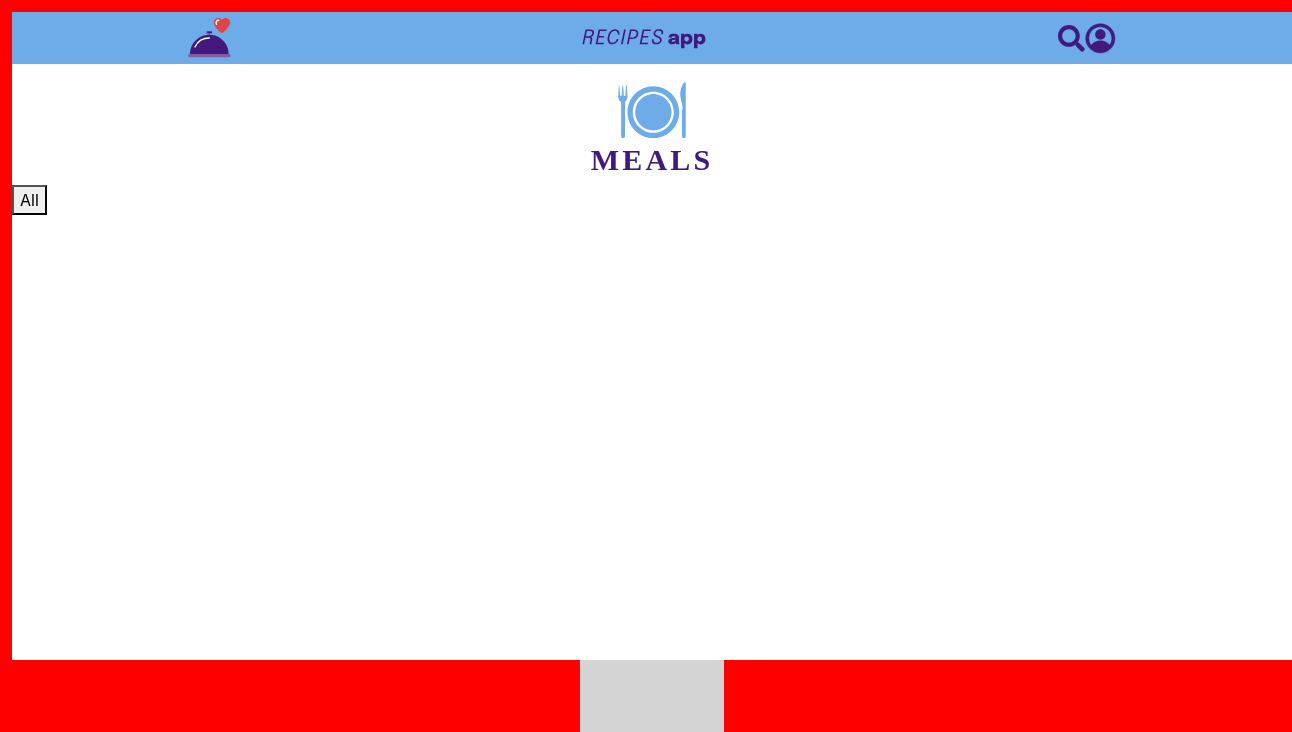
Test: Testando componente Header › Se clicando no botão search a barra de busca aparece
Click the button with test id "search-top-btn" at (1072, 38), box [1058, 22, 1085, 54]
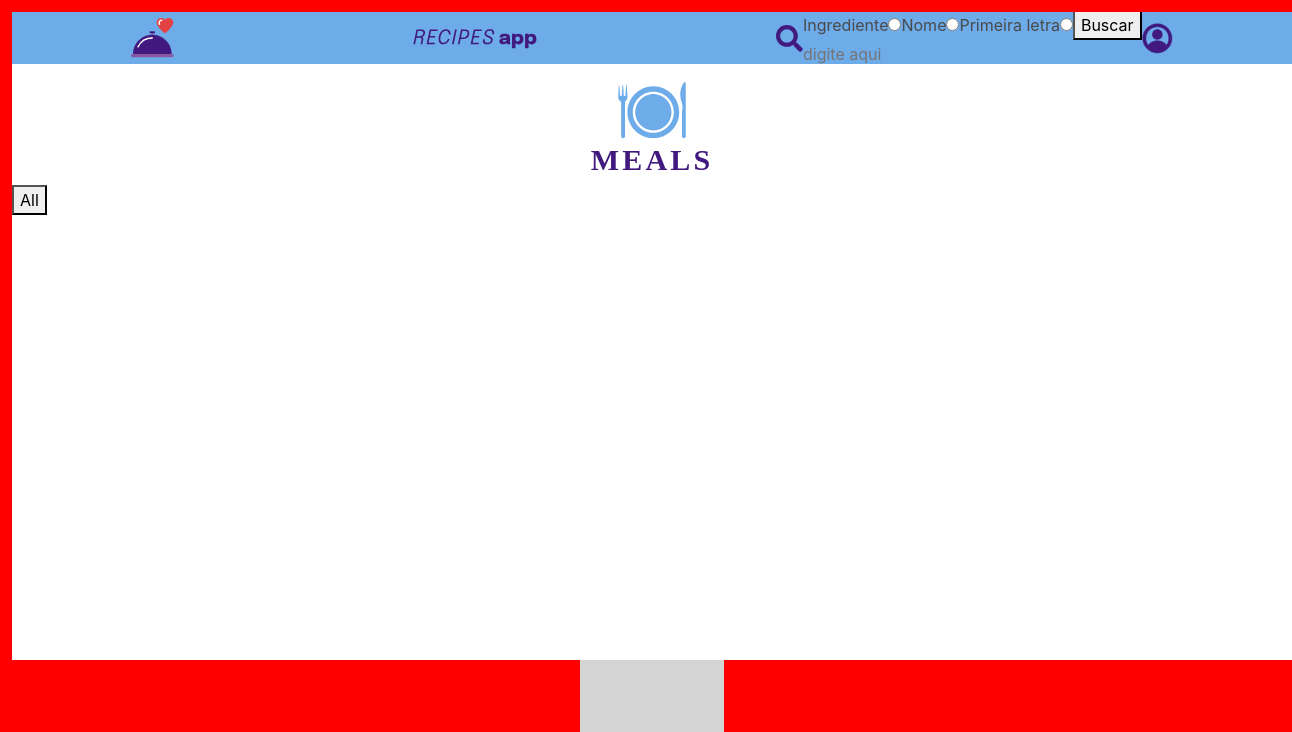
Check: the field with test id "search-input" is shown, box [803, 42, 1051, 66]
